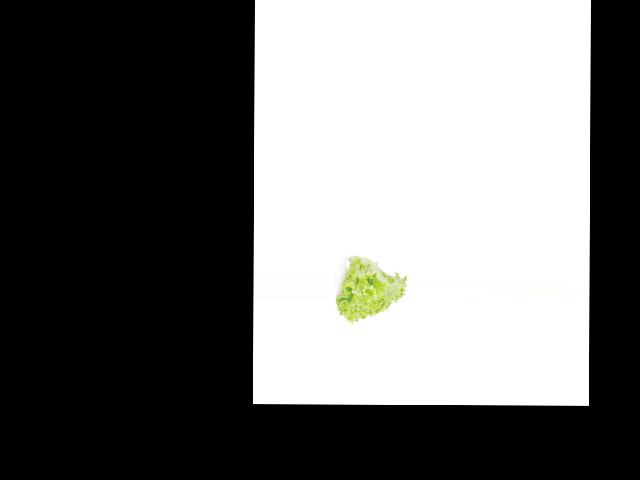lettuce: (335, 251, 409, 327)
